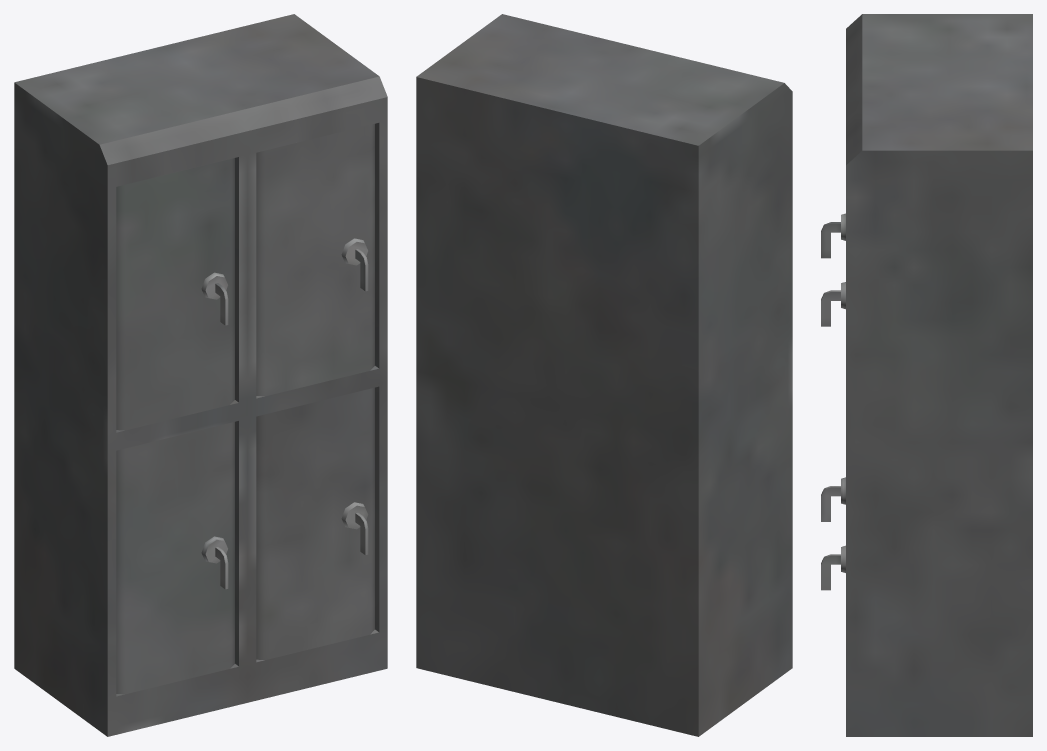
Rendered from locker_quad_special.obj.
3 views of the same model, side by side, from view 1: azimuth 30°, elevation 25°; view 2: azimuth 150°, elevation 25°; view 3: azimuth 270°, elevation 25° (orthographic).
Visible parts, largest first — view 1: locker_quad_special__EXPORT_TEMP; view 2: locker_quad_special__EXPORT_TEMP; view 3: locker_quad_special__EXPORT_TEMP.
Part boxes in pixels (left/top/right/bottom): locker_quad_special__EXPORT_TEMP: left=14, top=14, right=387, bottom=736; locker_quad_special__EXPORT_TEMP: left=416, top=14, right=792, bottom=736; locker_quad_special__EXPORT_TEMP: left=821, top=14, right=1032, bottom=736.
Size of the model in its own units: 1 by 2 by 0.6549.
